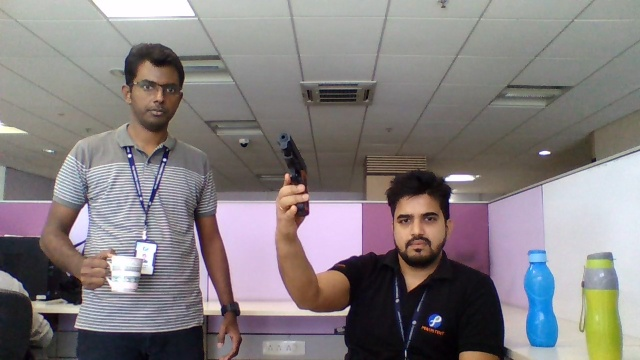gun: (278, 132, 309, 171)
